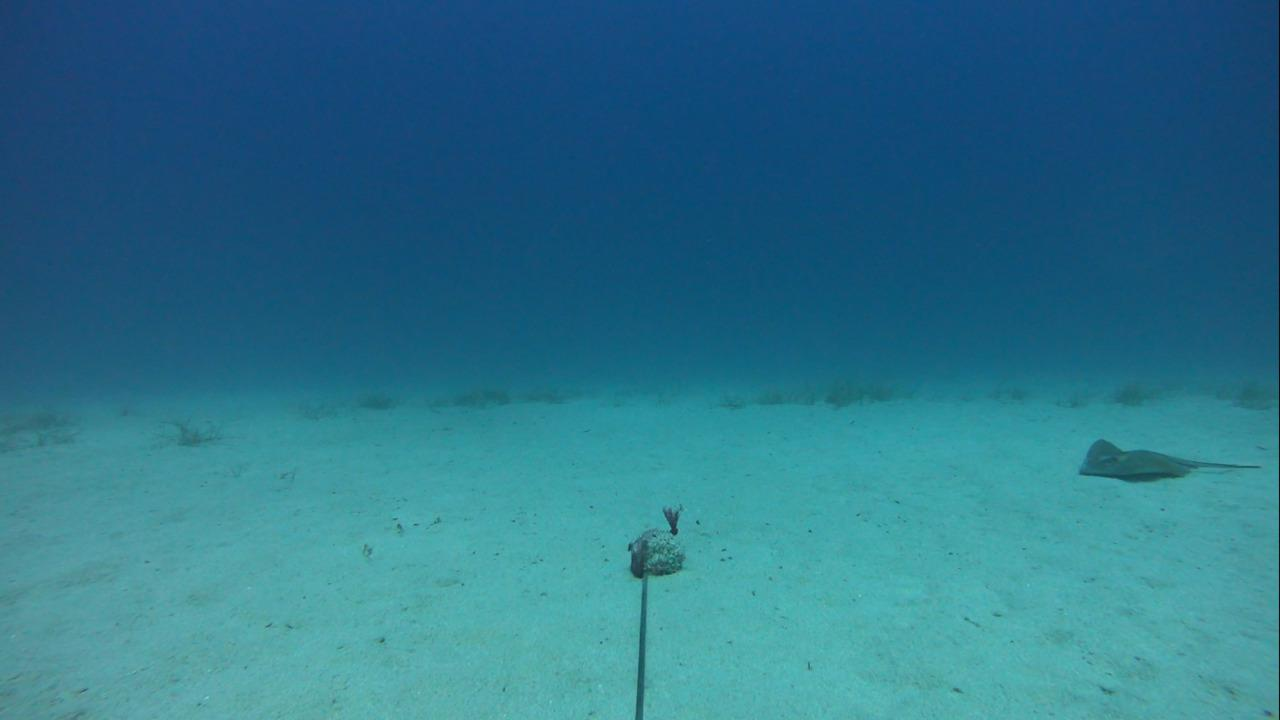myliobatis: (1069, 431, 1269, 487)
